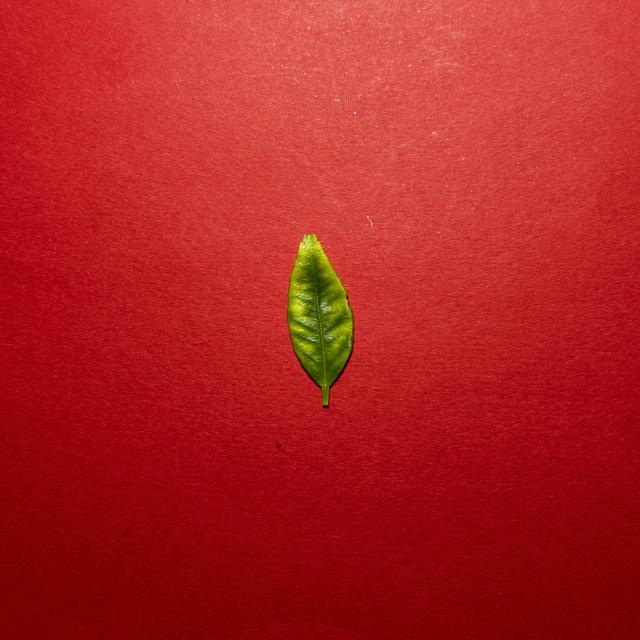greening: (288, 235, 353, 406)
